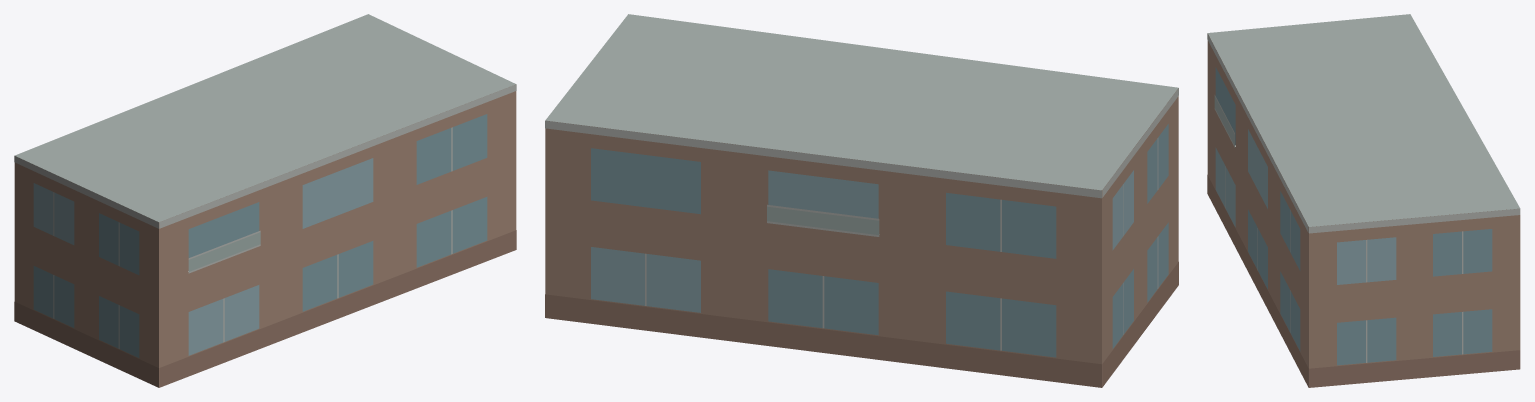
File: survey-upis-32867246.glb
3 renders of one model, left to right at view 1: azimuth 30°, elevation 25°; view 2: azimuth 150°, elevation 25°; view 3: azimuth 270°, elevation 25°, orthographic. The views are drawn at different scales.
Parts seen in each view (by area): view 1: survey-upis-32867246.tmp; view 2: survey-upis-32867246.tmp; view 3: survey-upis-32867246.tmp.
Boxes of the visible parts, <box> form: survey-upis-32867246.tmp: <box>14,14,516,387</box>; survey-upis-32867246.tmp: <box>545,14,1178,387</box>; survey-upis-32867246.tmp: <box>1207,14,1520,387</box>.
Bounding box in the file's own units: 17.35 × 6.1 × 10.77.
